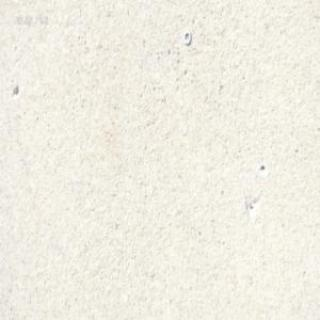Washertrack_idkeyframe: (182, 30, 190, 44)
